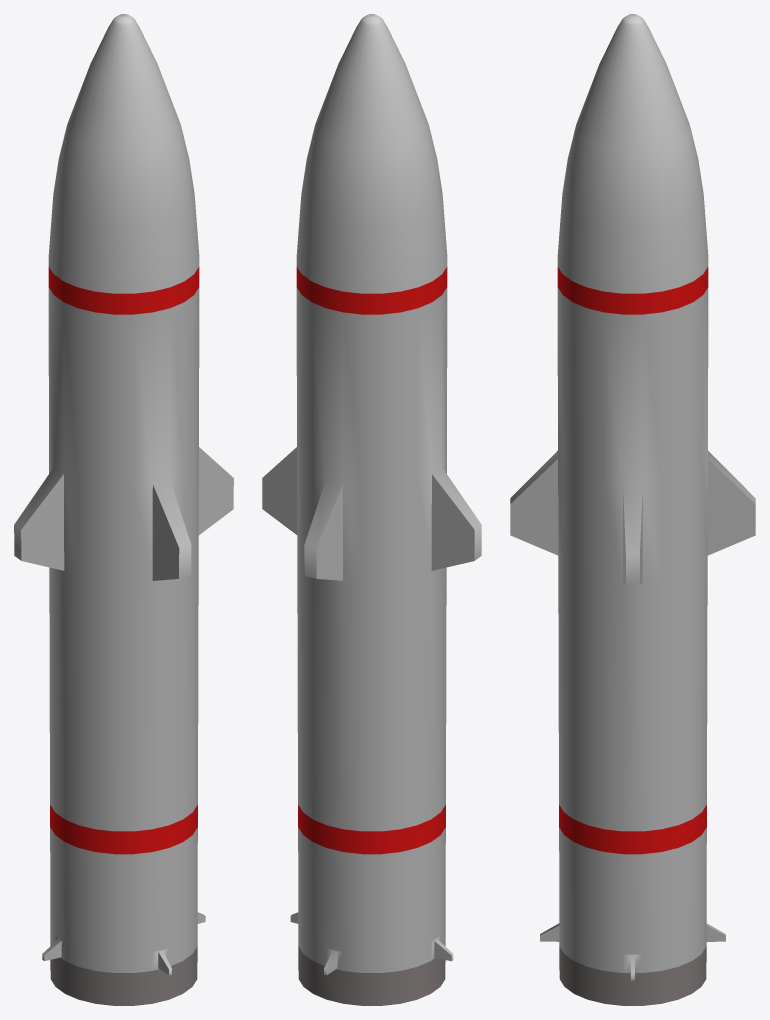
3 renders of one model, left to right at view 1: azimuth 30°, elevation 25°; view 2: azimuth 150°, elevation 25°; view 3: azimuth 270°, elevation 25°, orthographic.
Parts seen in each view (by area): view 1: 旋转.2; view 2: 旋转.2; view 3: 旋转.2.
Part boxes in pixels (box(x1,y1,x2,y2)): 旋转.2: box(14, 14, 233, 1005); 旋转.2: box(262, 14, 481, 1005); 旋转.2: box(510, 14, 755, 1005).
Size of the model in its own units: 5.23 by 22.53 by 5.23.
